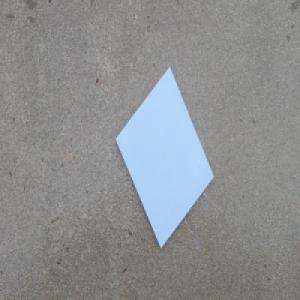PaintChip: (113, 64, 215, 252)
